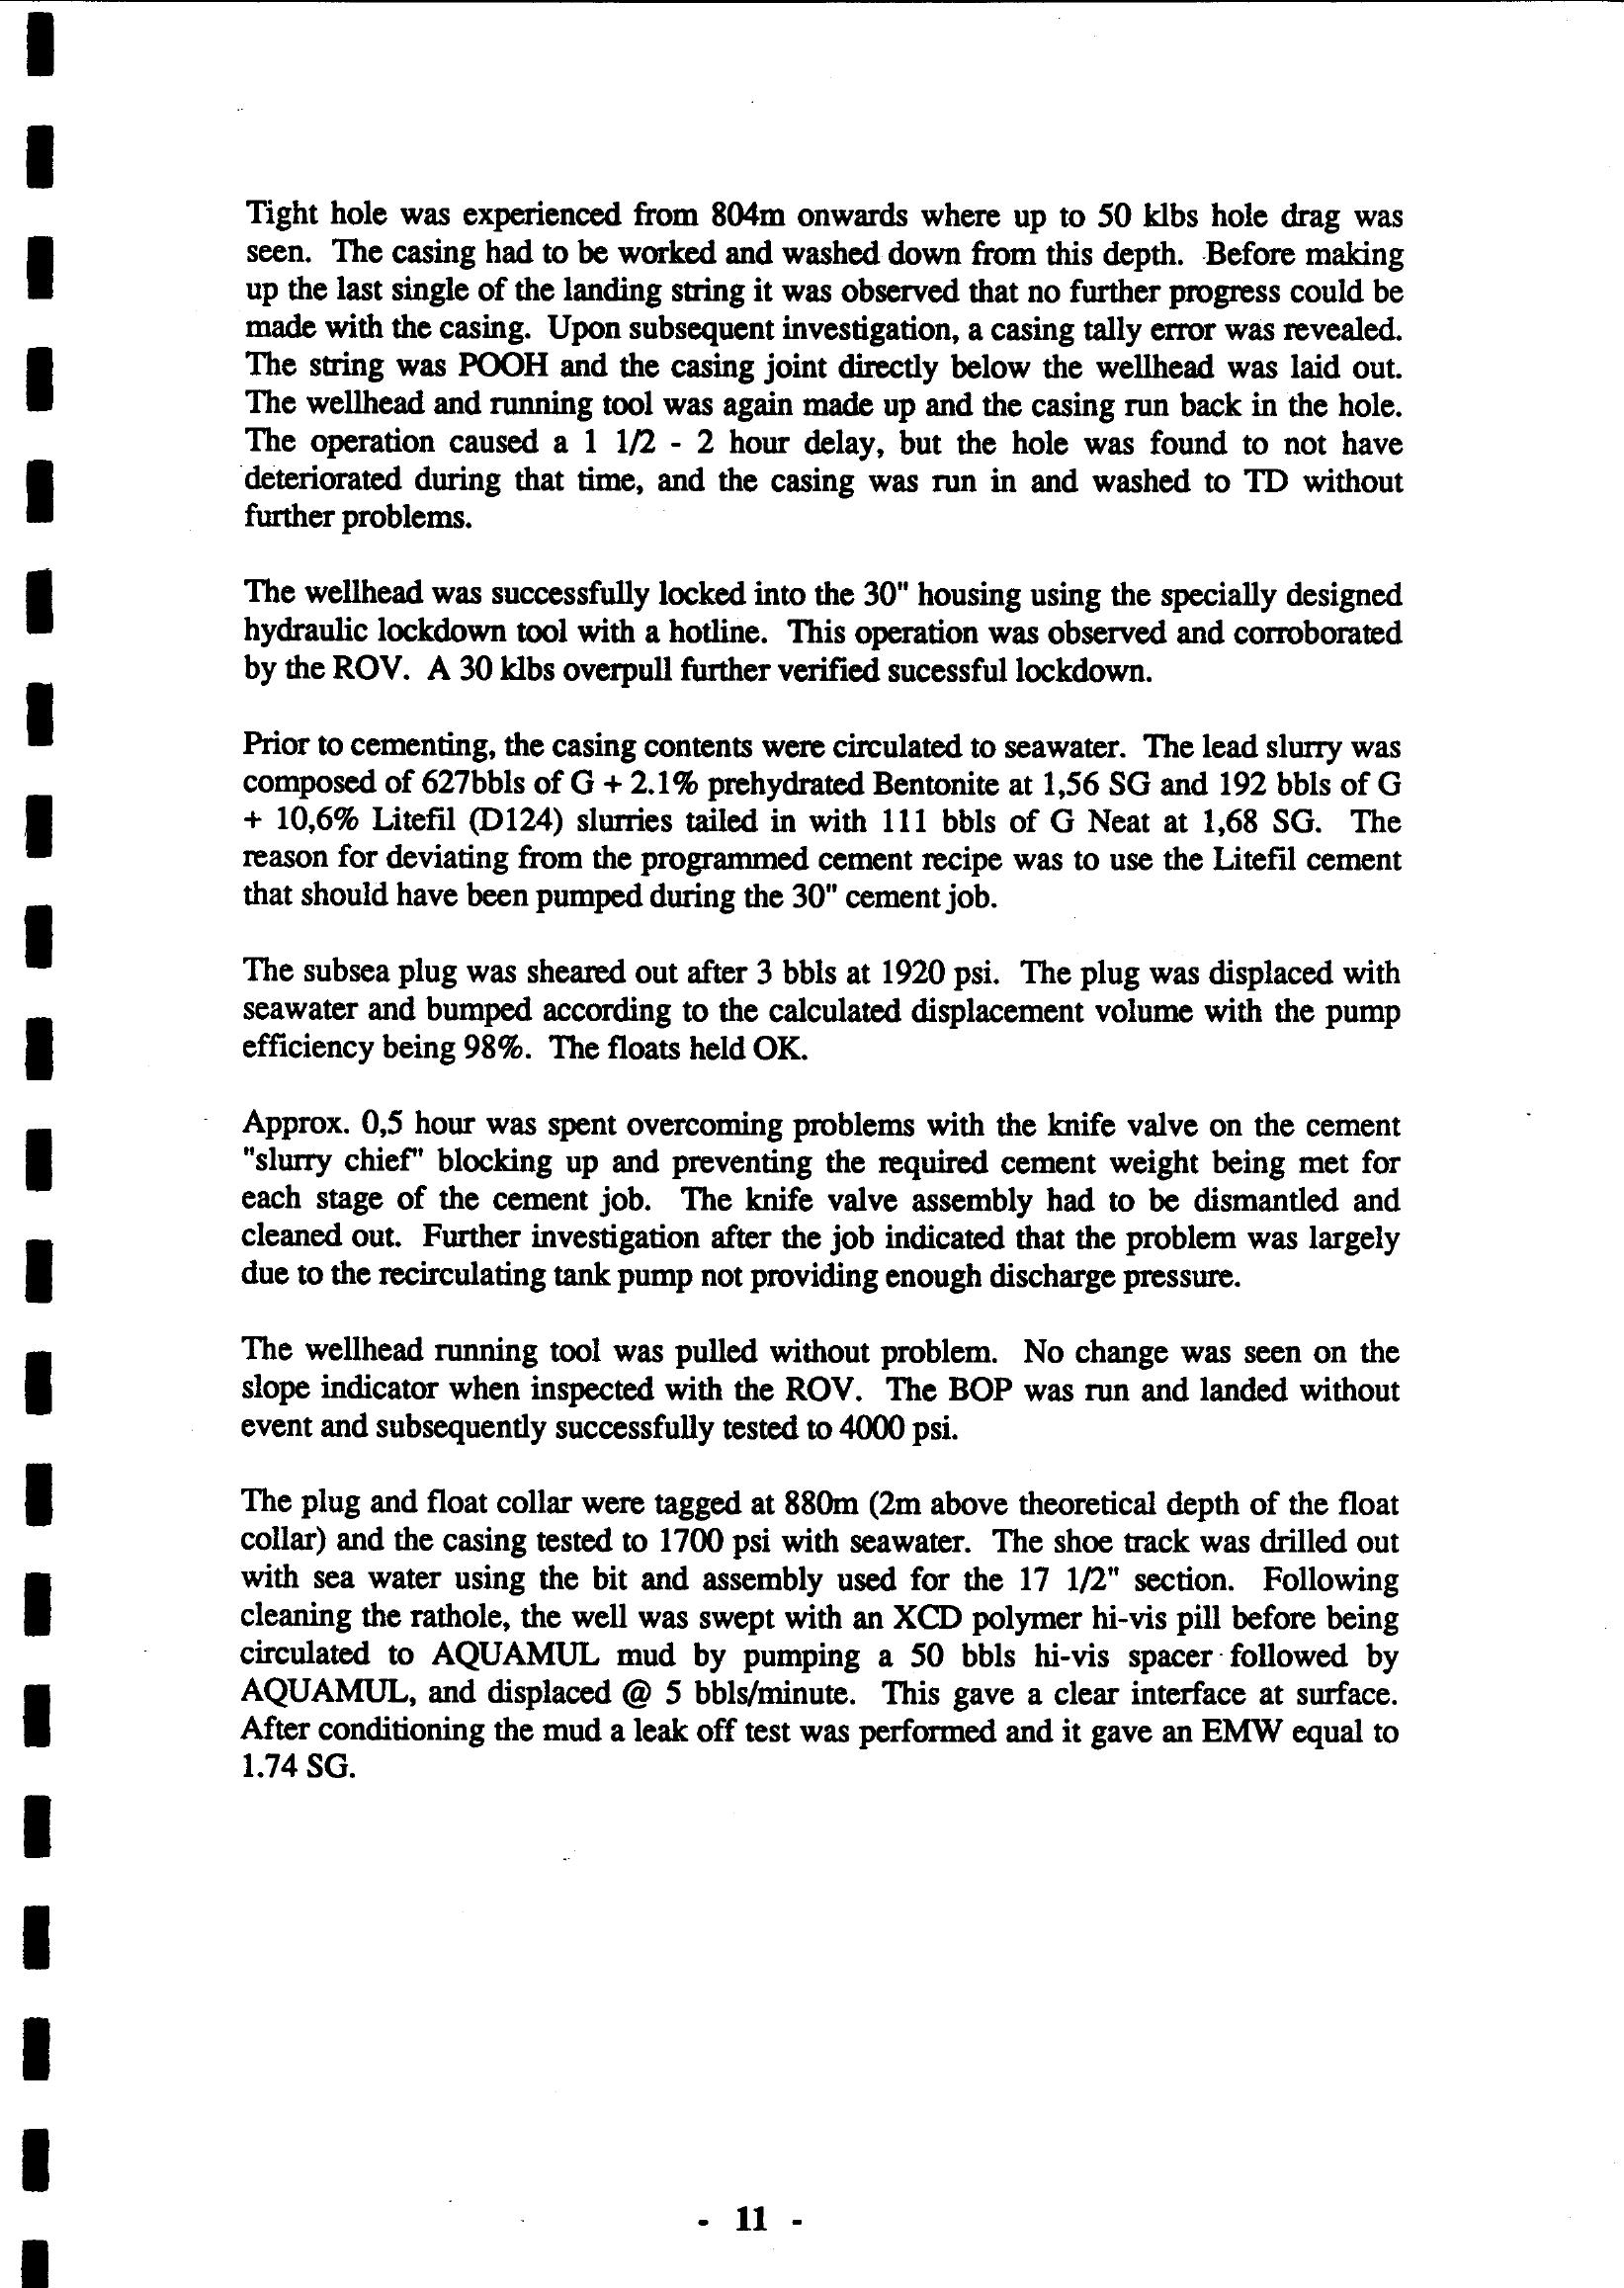text: (185, 163, 1471, 1835)
